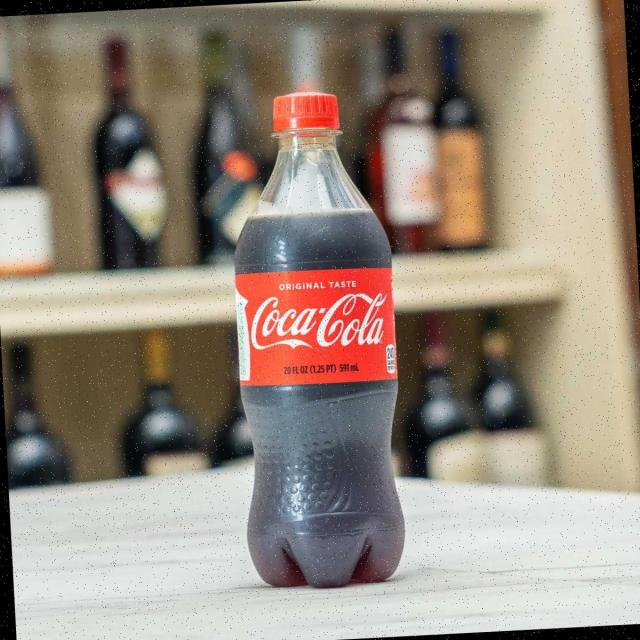coca-cola: (210, 80, 421, 604)
